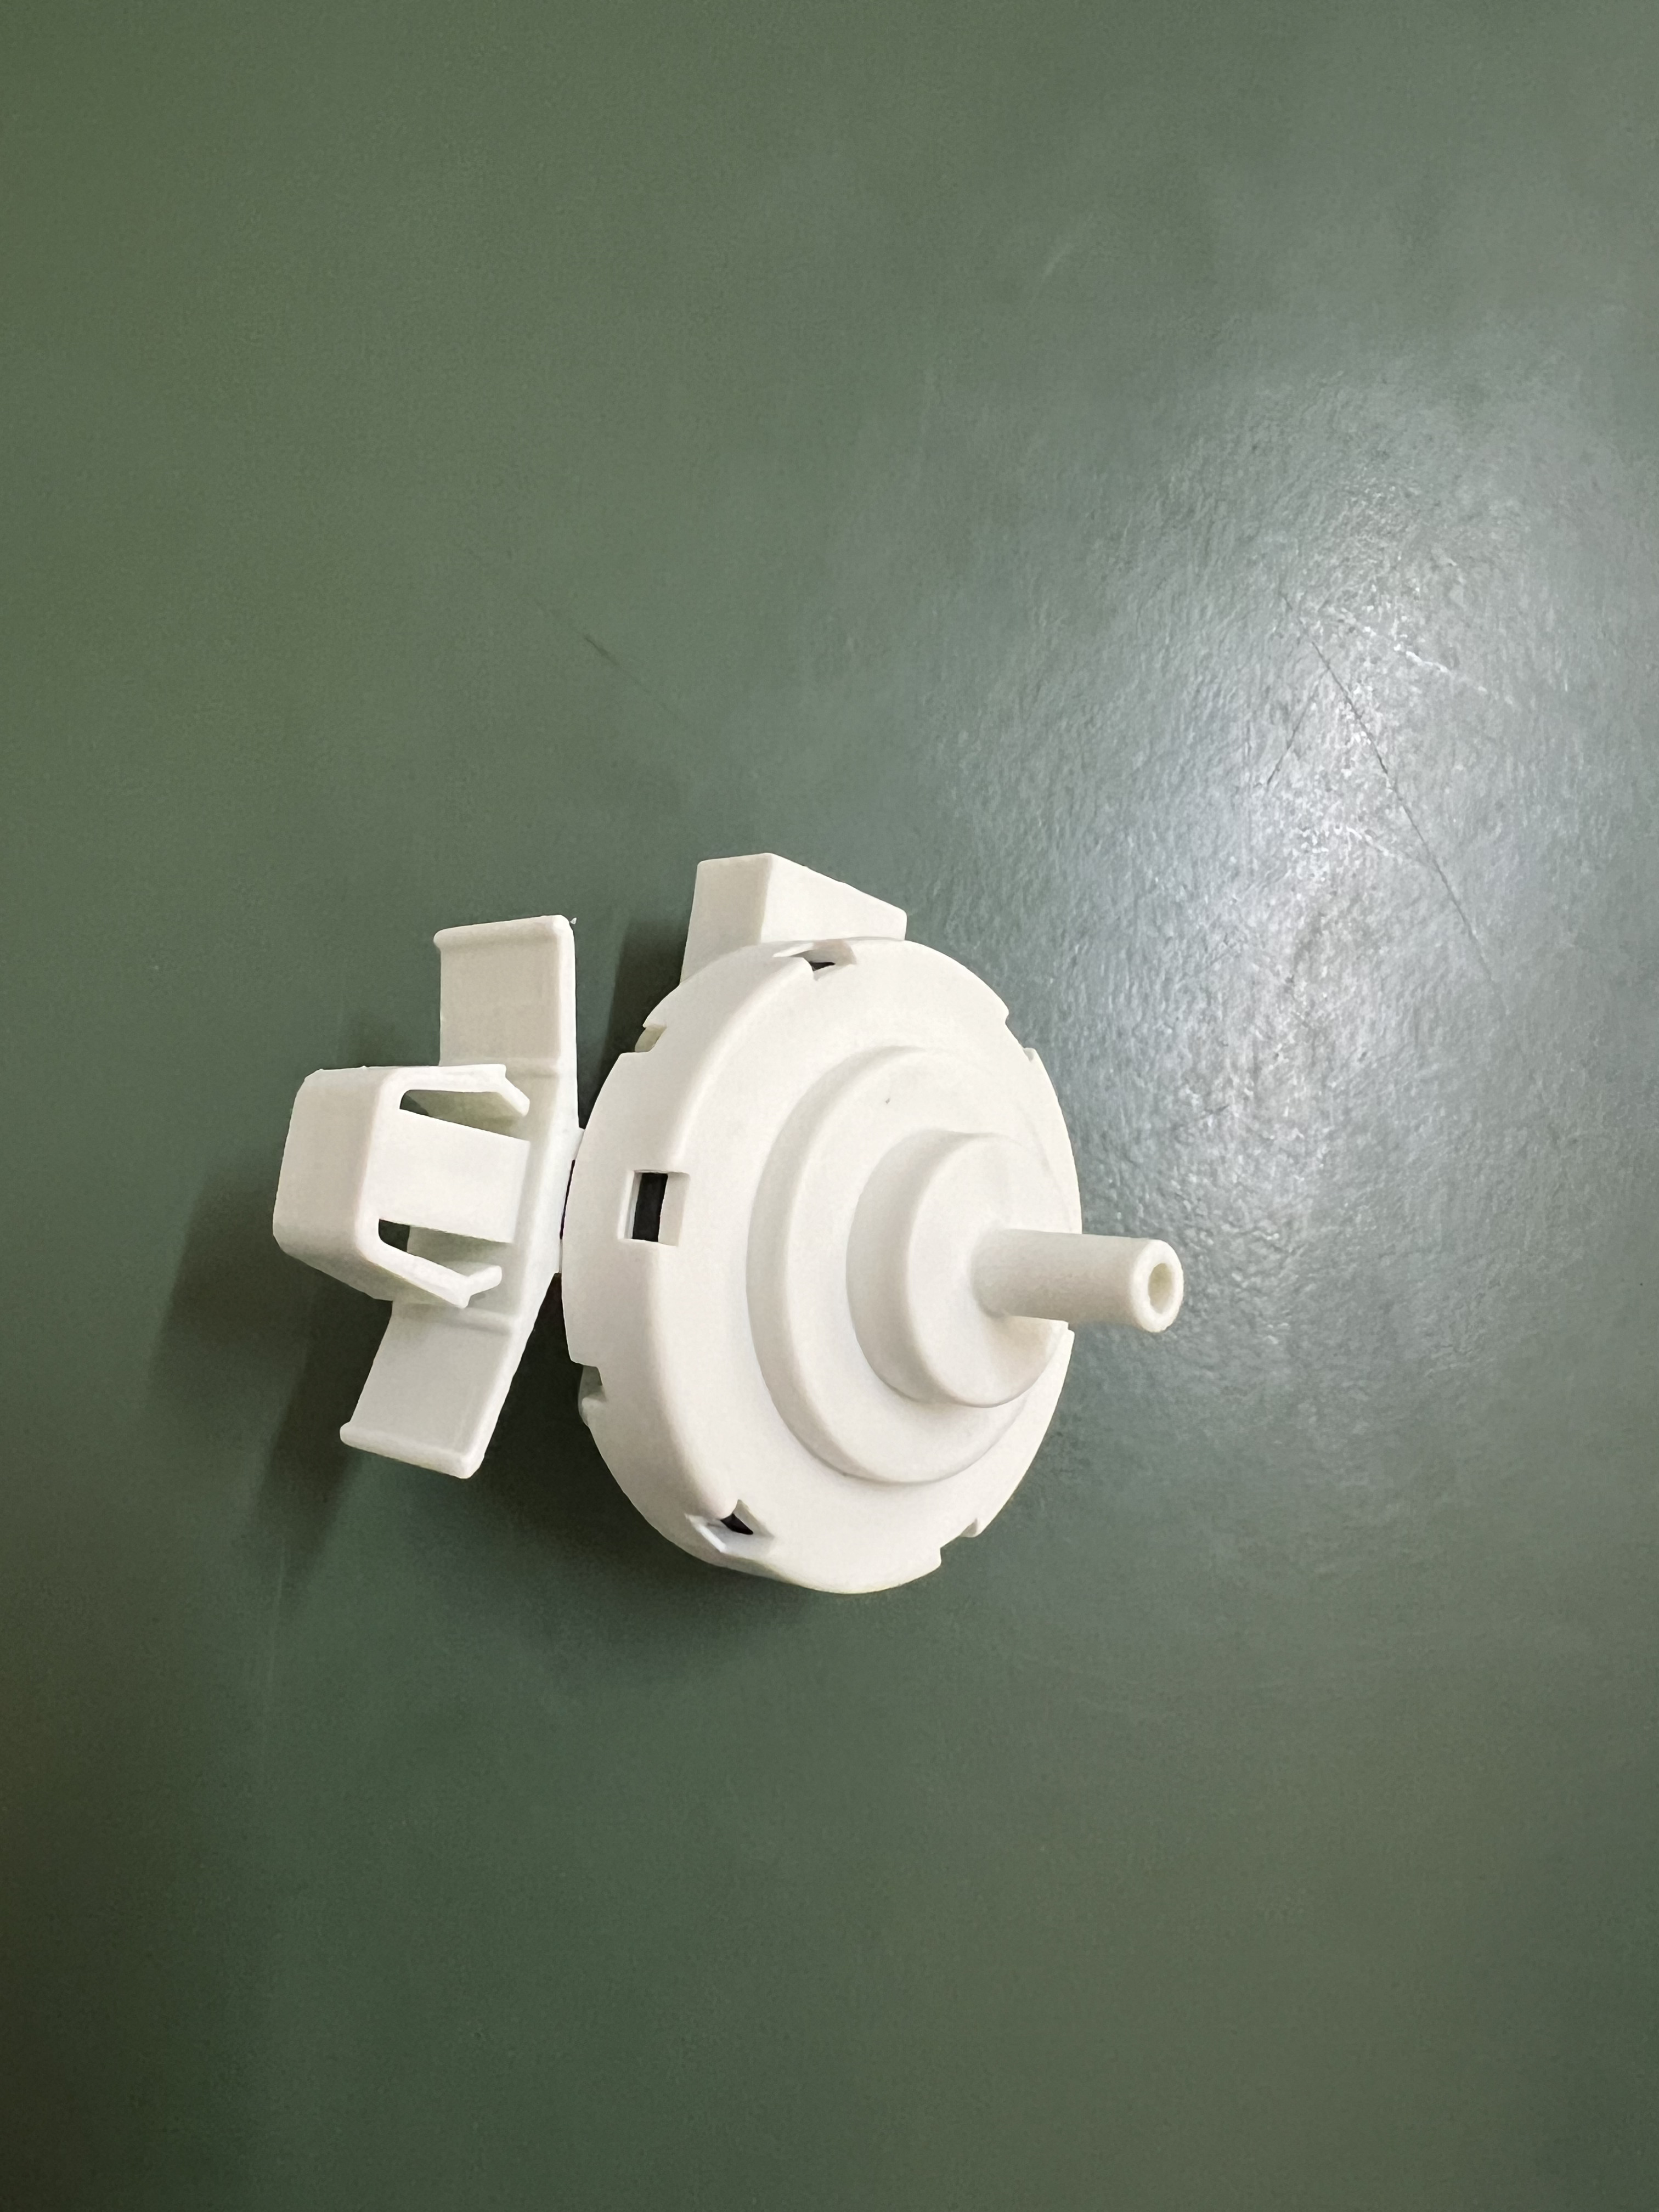pressure_switch_2: (256, 843, 1199, 1623)
